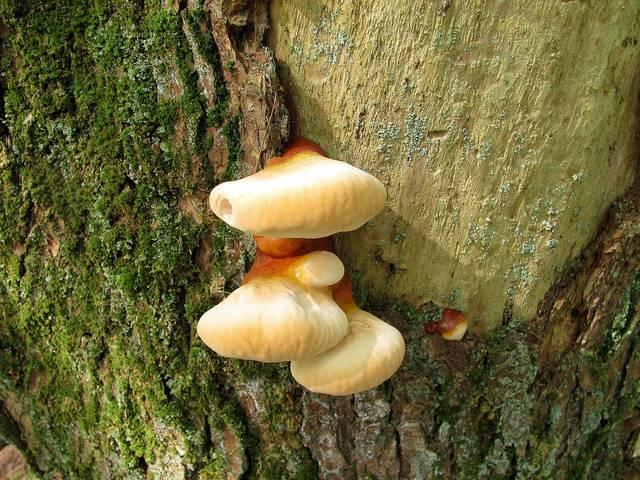poisonous_mushroom: (195, 140, 406, 396)
